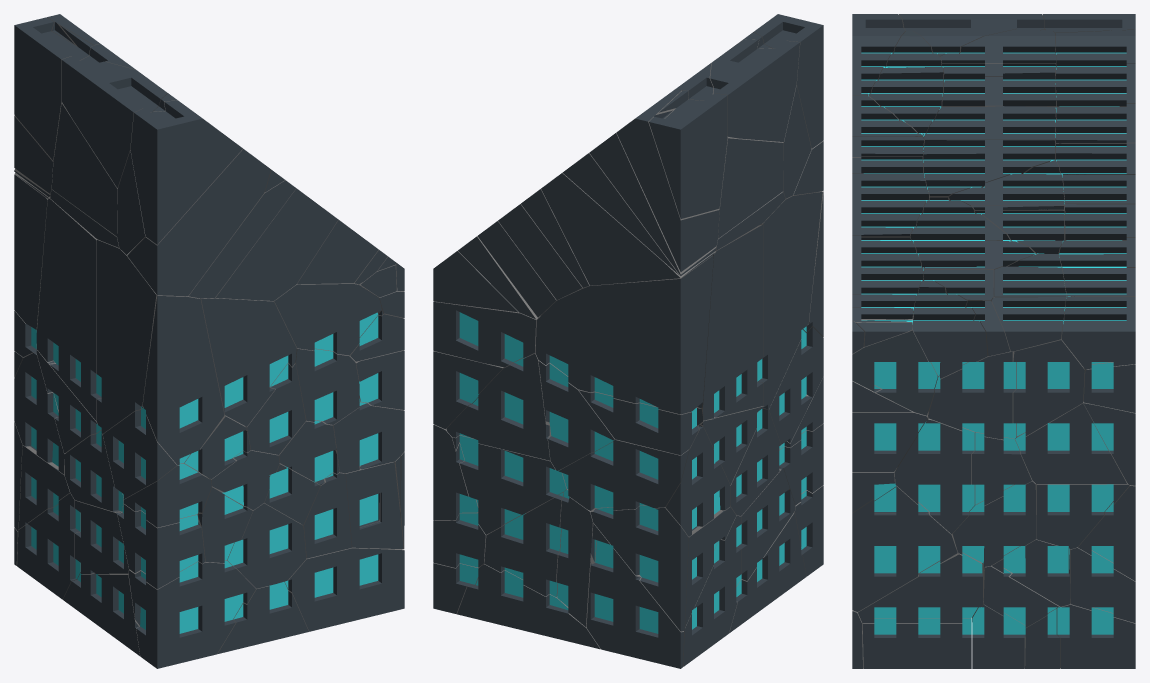
File: LLShatteredCity4.fbx
The picture shows the model from 3 angles, left to right: view 1: azimuth 30°, elevation 25°; view 2: azimuth 150°, elevation 25°; view 3: azimuth 270°, elevation 25°; orthographic projection.
Parts seen in each view (by area): view 1: Cube.004_cell.097, Cube.004_cell.051, Cube.004_cell.053, Cube.004_cell.031, Cube.004_cell.075, Cube.004_cell.050, Cube.004_cell.047, Cube.004_cell.010, Cube.004_cell.090, Cube.004_cell.005, Cube.004_cell.071, Cube.004_cell.093 (+37 smaller); view 2: Cube.004_cell.026, Cube.004_cell.051, Cube.004_cell.050, Cube.004_cell.044, Cube.004_cell.071, Cube.004_cell.090, Cube.004_cell.032, Cube.004_cell.002, Cube.004_cell.025, Cube.004_cell.023, Cube.004_cell.001, Cube.004_cell.030 (+35 smaller); view 3: Cube.004_cell.079, Cube.004_cell.052, Cube.004_cell.094, Cube.004_cell.064, Cube.004_cell.091, Cube.004_cell.074, Cube.004_cell.067, Cube.004_cell.081, Cube.004_cell.003, Cube.004_cell.082, Cube.004_cell.012, Cube.004_cell.084 (+48 smaller).
Boxes of the visible parts, x1=… form: Cube.004_cell.097: x1=142, y1=295, x2=224, y2=465; Cube.004_cell.051: x1=36, y1=199, x2=101, y2=421; Cube.004_cell.053: x1=130, y1=100, x2=242, y2=244; Cube.004_cell.031: x1=128, y1=560, x2=255, y2=668; Cube.004_cell.075: x1=127, y1=148, x2=270, y2=296; Cube.004_cell.050: x1=97, y1=240, x2=157, y2=433; Cube.004_cell.047: x1=200, y1=298, x2=296, y2=426; Cube.004_cell.010: x1=284, y1=547, x2=404, y2=631; Cube.004_cell.090: x1=61, y1=56, x2=167, y2=187; Cube.004_cell.005: x1=215, y1=188, x2=338, y2=300; Cube.004_cell.071: x1=14, y1=17, x2=93, y2=160; Cube.004_cell.093: x1=273, y1=283, x2=383, y2=355; Cube.004_cell.026: x1=535, y1=255, x2=713, y2=414; Cube.004_cell.051: x1=700, y1=224, x2=762, y2=420; Cube.004_cell.050: x1=757, y1=192, x2=822, y2=409; Cube.004_cell.044: x1=586, y1=523, x2=684, y2=668; Cube.004_cell.071: x1=649, y1=90, x2=727, y2=218; Cube.004_cell.090: x1=710, y1=39, x2=799, y2=141; Cube.004_cell.032: x1=541, y1=173, x2=715, y2=285; Cube.004_cell.002: x1=590, y1=505, x2=688, y2=631; Cube.004_cell.025: x1=558, y1=439, x2=689, y2=511; Cube.004_cell.023: x1=446, y1=352, x2=551, y2=460; Cube.004_cell.001: x1=452, y1=435, x2=566, y2=534; Cube.004_cell.030: x1=616, y1=89, x2=719, y2=271; Cube.004_cell.079: x1=852, y1=486, x2=957, y2=611; Cube.004_cell.052: x1=894, y1=418, x2=975, y2=534; Cube.004_cell.094: x1=928, y1=351, x2=1016, y2=439; Cube.004_cell.064: x1=1015, y1=403, x2=1126, y2=483; Cube.004_cell.091: x1=922, y1=140, x2=1055, y2=199; Cube.004_cell.074: x1=858, y1=551, x2=982, y2=623; Cube.004_cell.067: x1=862, y1=618, x2=971, y2=668; Cube.004_cell.081: x1=1013, y1=338, x2=1084, y2=436; Cube.004_cell.003: x1=868, y1=30, x2=943, y2=138; Cube.004_cell.082: x1=913, y1=280, x2=987, y2=378; Cube.004_cell.012: x1=1061, y1=296, x2=1135, y2=369; Cube.004_cell.084: x1=852, y1=327, x2=937, y2=415.
Bounding box in the file's own units: 96 × 200 × 96.
